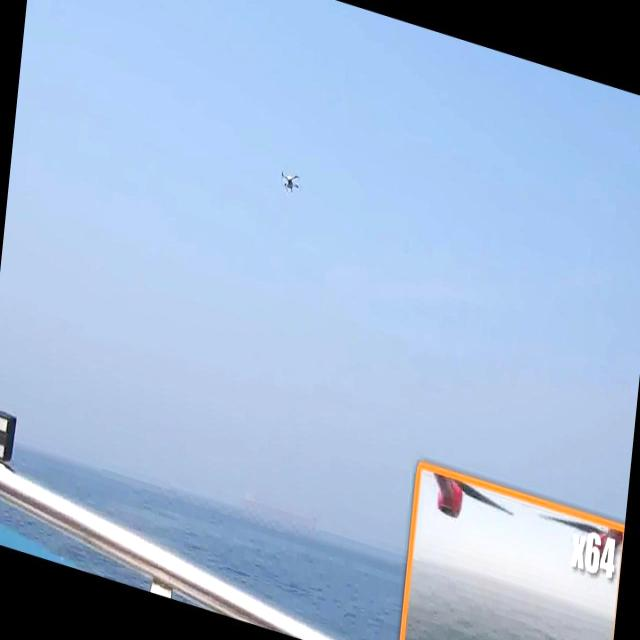drone: (278, 161, 304, 197)
